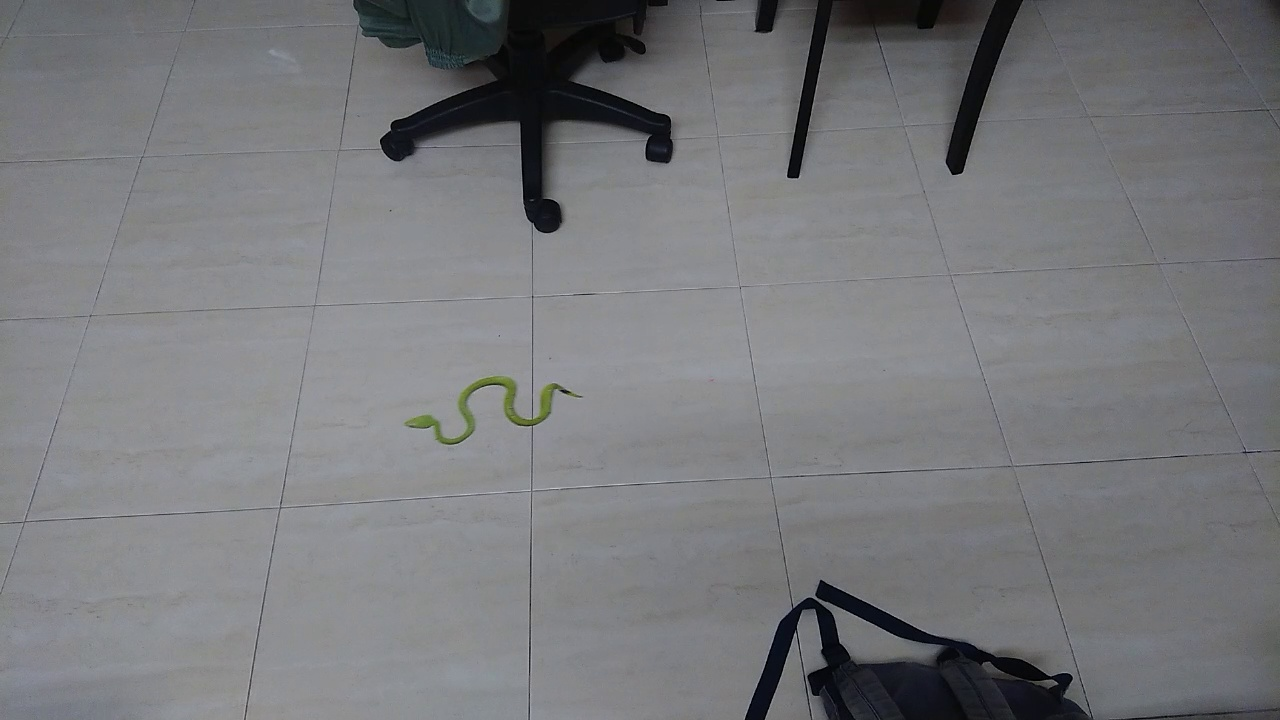snake: (387, 361, 599, 452)
